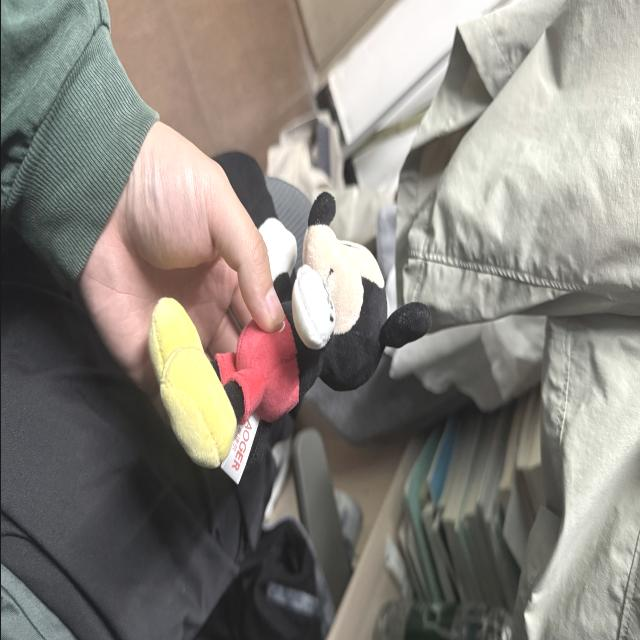mickey: (149, 194, 430, 467)
